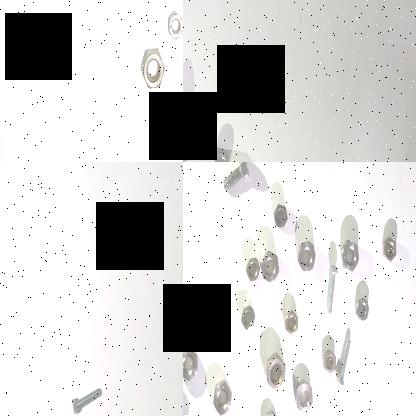Bolts: (67, 385, 105, 416), (323, 255, 341, 319), (334, 334, 356, 386), (220, 162, 252, 194)
NUTS: (138, 46, 166, 96), (264, 350, 288, 394), (210, 376, 236, 416), (293, 375, 315, 416), (296, 237, 318, 275), (259, 245, 279, 285), (183, 341, 202, 383), (338, 236, 360, 272), (166, 6, 183, 42), (380, 234, 400, 264), (281, 310, 301, 339), (200, 301, 218, 333), (272, 201, 288, 231), (320, 348, 338, 374), (213, 137, 231, 162), (245, 254, 259, 286), (354, 294, 368, 324), (241, 303, 255, 332)
